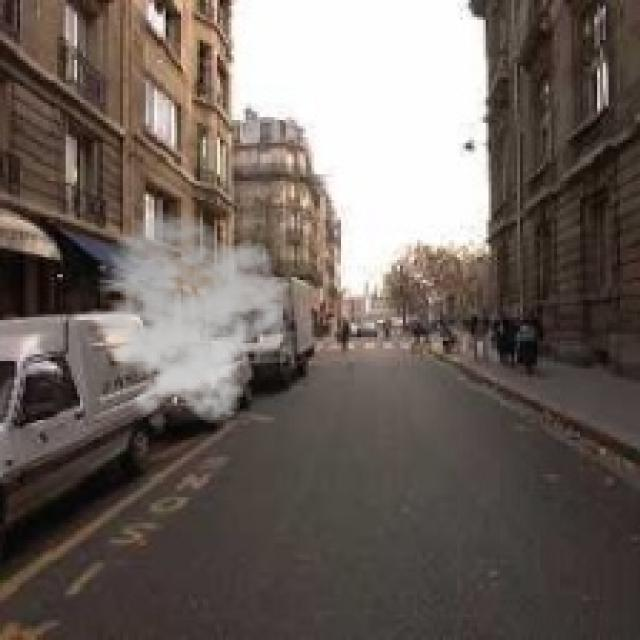smoke: (72, 211, 294, 426)
